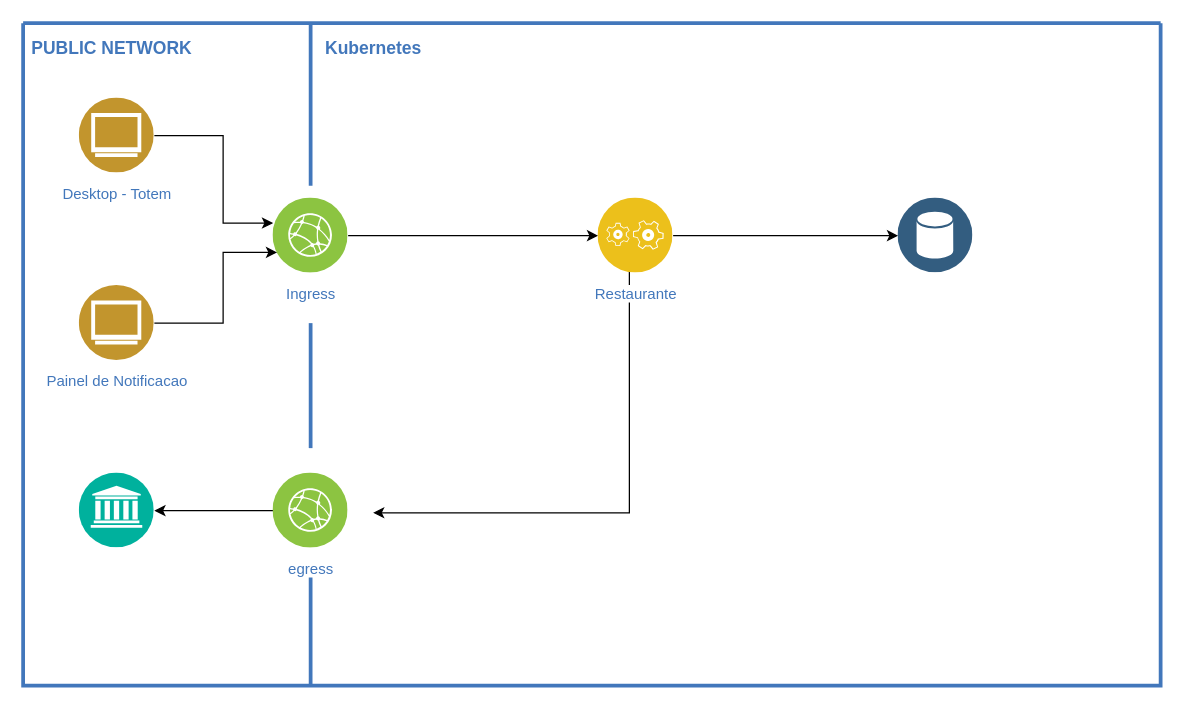
Image size: 1184x709. Some labels were removed from this diagram. Here are the shapes that lost their labels. From the top down, the box of each, then its label:
(898, 198, 972, 272): Postgress restauranteDB
(79, 472, 154, 548): Mercado Pago
